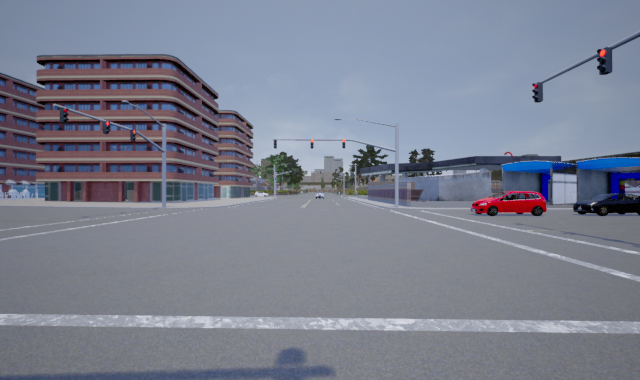vehicle: (466, 191, 552, 216), (568, 193, 639, 216)
